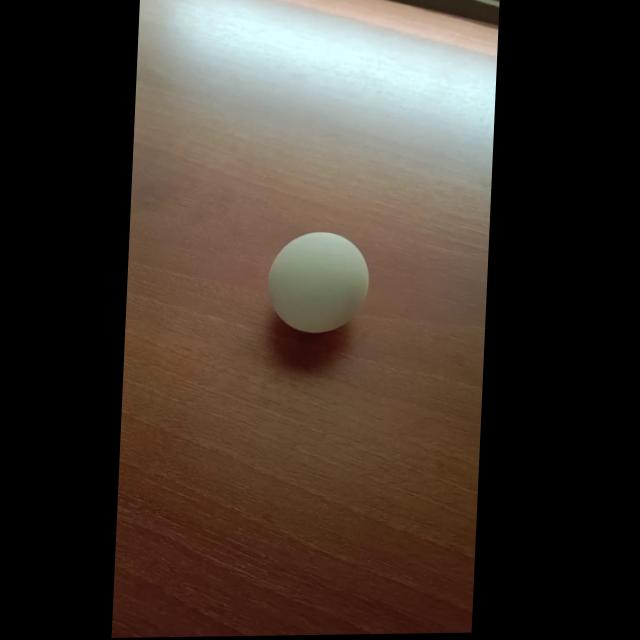white ball: (264, 229, 371, 335)
